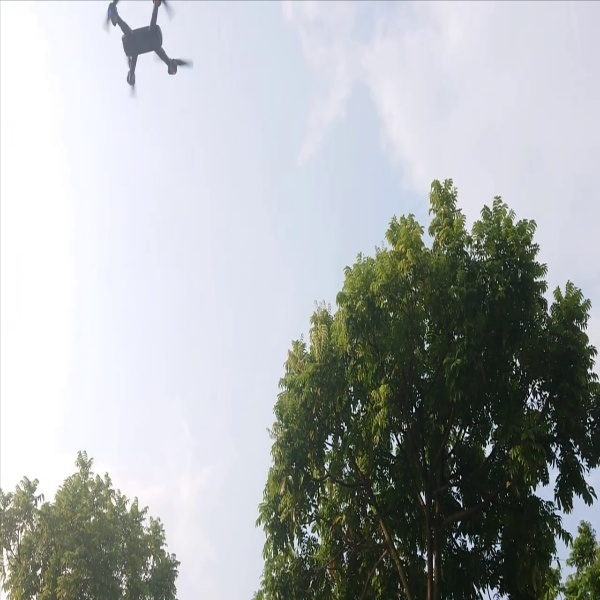drone: (98, 1, 201, 104)
